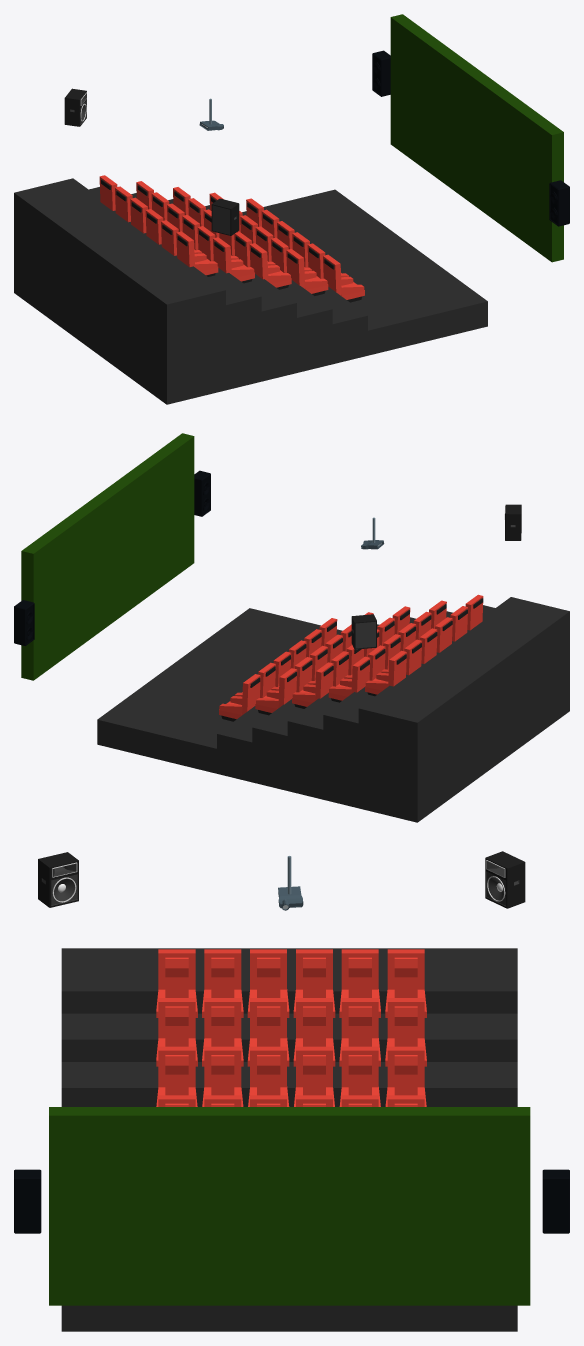
File: cinema2.gltf
3 renders of one model, top to bottom at view 1: azimuth 30°, elevation 25°; view 2: azimuth 150°, elevation 25°; view 3: azimuth 270°, elevation 25°, orthographic. The views are drawn at different scales.
Parts seen in each view (by area): view 1: Cube, Cube.001, Chair, speaker.001, BassSpeakers1, BassSpeakers1.001, speaker.003; view 2: Cube, Cube.001, Chair, BassSpeakers1.001, speaker.003, BassSpeakers1, speaker.001; view 3: Cube.001, Cube, Chair, speaker.001, speaker.003, BassSpeakers1, BassSpeakers1.001, Projector.
Part boxes in pixels (x1=…): Cube: x1=14, y1=178, x2=487, y2=404; Cube.001: x1=390, y1=14, x2=563, y2=262; Chair: x1=99, y1=175, x2=364, y2=302; speaker.001: x1=211, y1=198, x2=239, y2=235; BassSpeakers1: x1=549, y1=180, x2=569, y2=226; BassSpeakers1.001: x1=372, y1=50, x2=390, y2=96; speaker.003: x1=64, y1=88, x2=86, y2=126; Cube: x1=97, y1=597, x2=569, y2=822; Cube.001: x1=21, y1=433, x2=194, y2=680; Chair: x1=219, y1=594, x2=483, y2=721; BassSpeakers1.001: x1=14, y1=600, x2=34, y2=645; speaker.003: x1=351, y1=614, x2=376, y2=649; BassSpeakers1: x1=194, y1=470, x2=210, y2=516; speaker.001: x1=504, y1=504, x2=521, y2=540; Cube.001: x1=49, y1=1107, x2=530, y2=1305; Cube: x1=61, y1=948, x2=517, y2=1331; Chair: x1=156, y1=949, x2=426, y2=1106; speaker.001: x1=38, y1=852, x2=78, y2=907; speaker.003: x1=485, y1=851, x2=525, y2=908; BassSpeakers1: x1=14, y1=1169, x2=41, y2=1233; BassSpeakers1.001: x1=542, y1=1169, x2=569, y2=1233; Projector: x1=278, y1=856, x2=303, y2=910.
Size of the model in its own units: 10.72 by 5.74 by 8.8.
